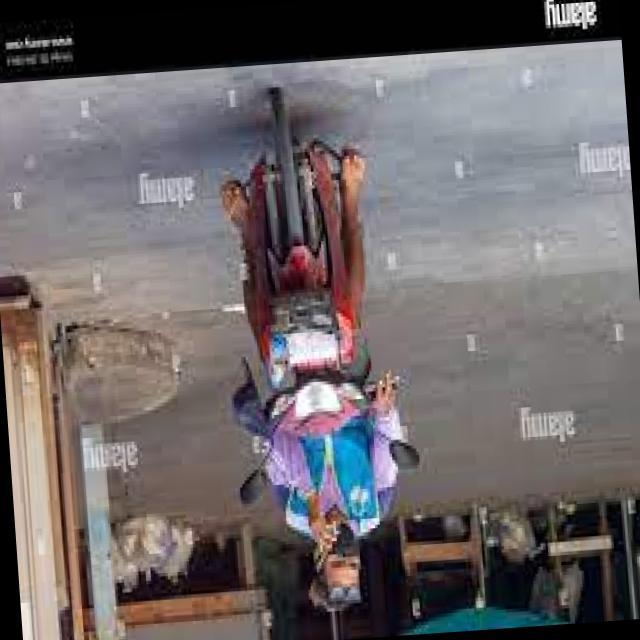USING_MOBILE: (302, 510, 346, 580)
